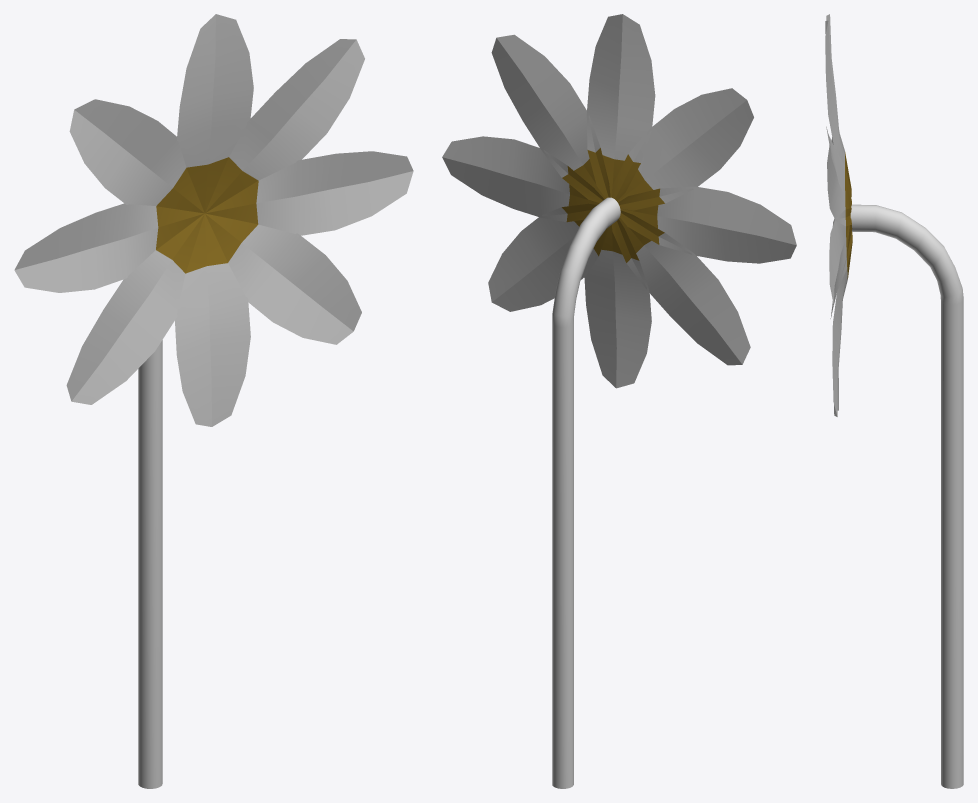
Rendered from daisy.fbx.
The picture shows the model from 3 angles, left to right: view 1: azimuth 30°, elevation 25°; view 2: azimuth 150°, elevation 25°; view 3: azimuth 270°, elevation 25°; orthographic projection. The views are drawn at different scales.
Parts seen in each view (by area): view 1: daisypetals, daisystem; view 2: daisypetals, daisystem; view 3: daisystem, daisypetals.
Part boxes in pixels (x1,y1,x2,y2): daisypetals: [14, 14, 413, 426]; daisystem: [138, 340, 162, 788]; daisypetals: [442, 14, 796, 388]; daisystem: [552, 197, 620, 788]; daisystem: [850, 204, 963, 788]; daisypetals: [825, 14, 852, 416].
Size of the model in its own units: 141 by 276 by 45.38.
